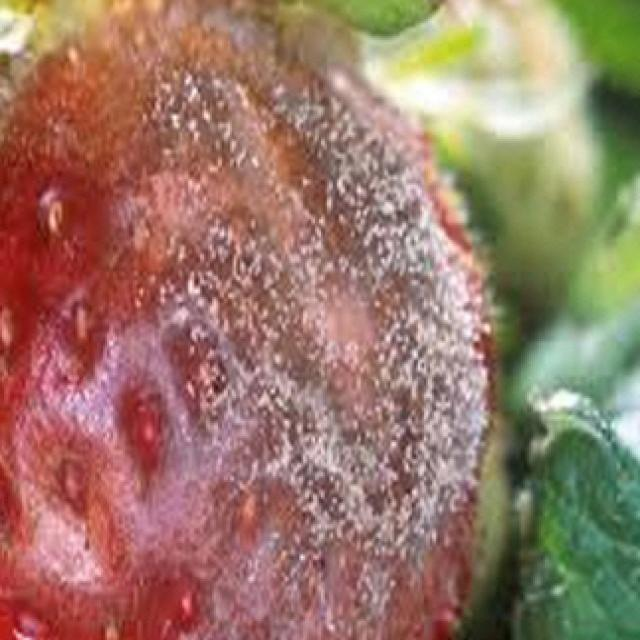Gray Mold: (0, 0, 500, 640)
